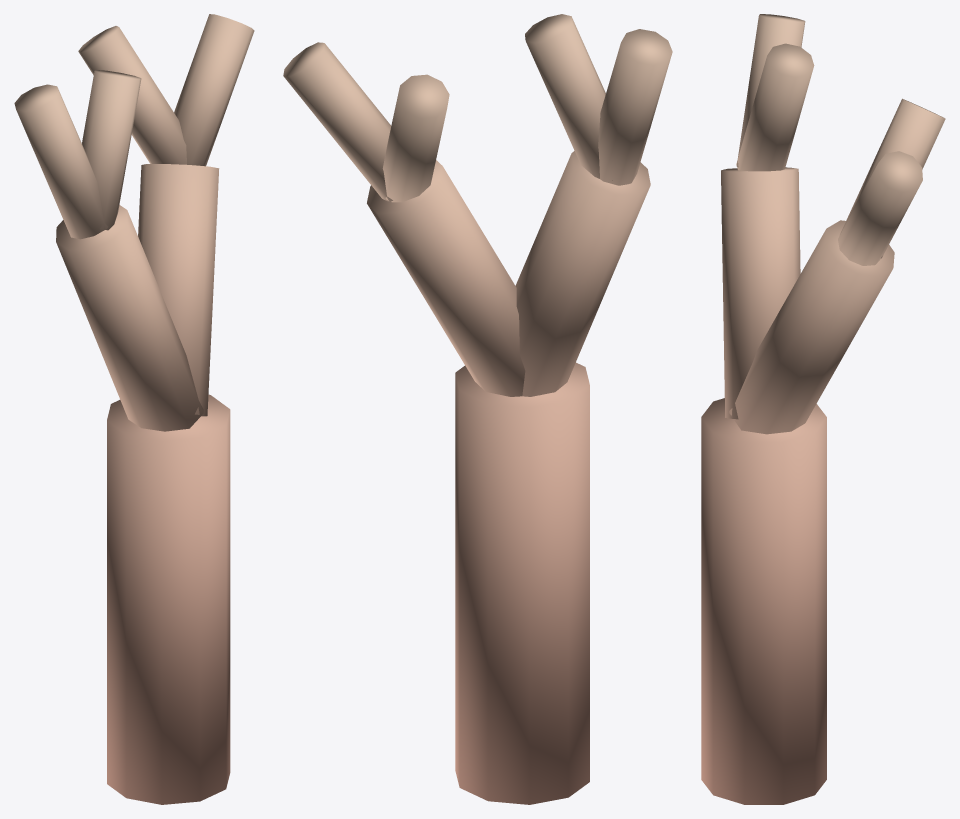
File: coral_branch.glb
3 renders of one model, left to right at view 1: azimuth 30°, elevation 25°; view 2: azimuth 150°, elevation 25°; view 3: azimuth 270°, elevation 25°, orthographic. The views are drawn at different scales.
Parts seen in each view (by area): view 1: coral_branch; view 2: coral_branch; view 3: coral_branch.
Part boxes in pixels (left/top/right/bottom): coral_branch: left=14, top=14, right=254, bottom=804; coral_branch: left=283, top=14, right=672, bottom=804; coral_branch: left=701, top=14, right=945, bottom=804.
Bounding box in the file's own units: 0.5871 × 1.37 × 0.4279.
